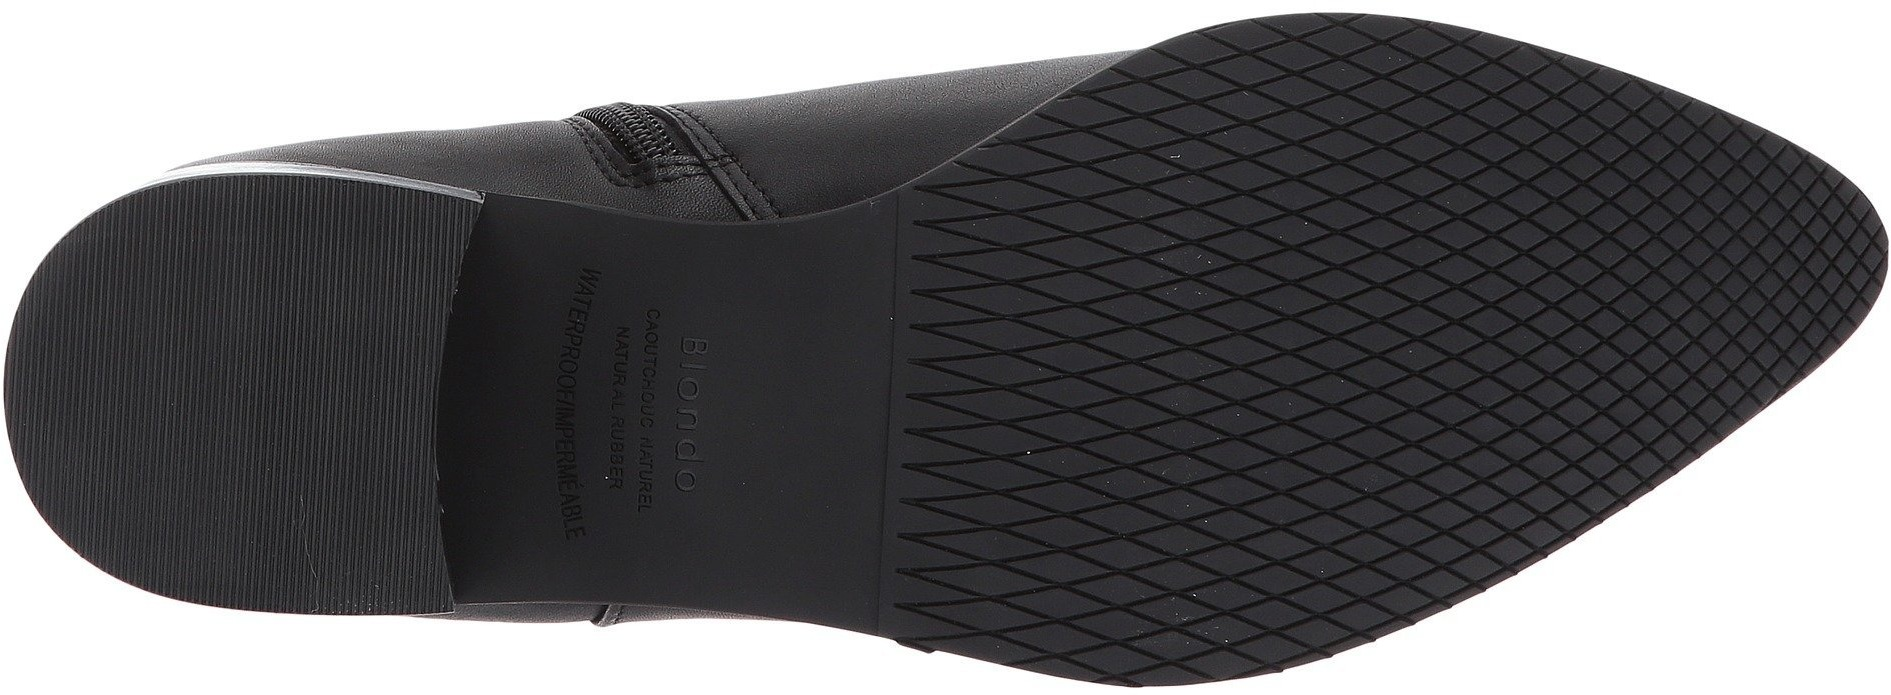other: (80, 236, 412, 555)
quad: (1245, 110, 1670, 452), (915, 180, 1239, 518), (1249, 460, 1412, 619), (984, 522, 1153, 658), (1684, 180, 1836, 323), (1103, 59, 1235, 171), (1421, 460, 1536, 567)
